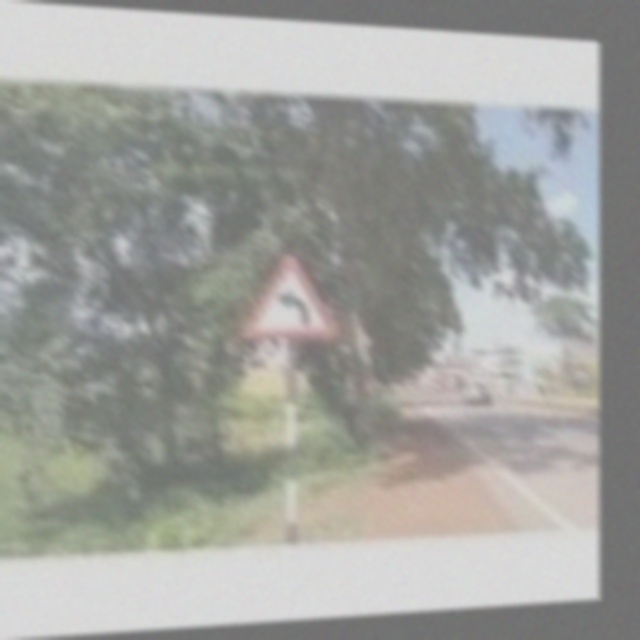Left_Hand_Curve: (243, 251, 336, 344)
